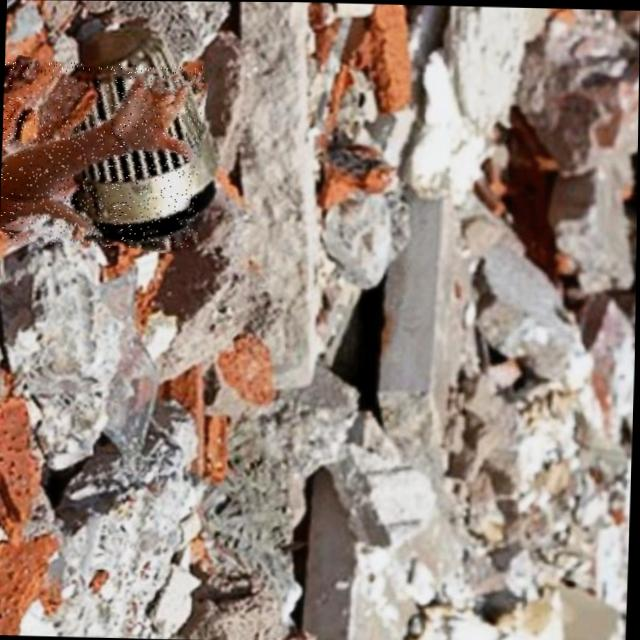Person in Rubble: (0, 61, 203, 250)
